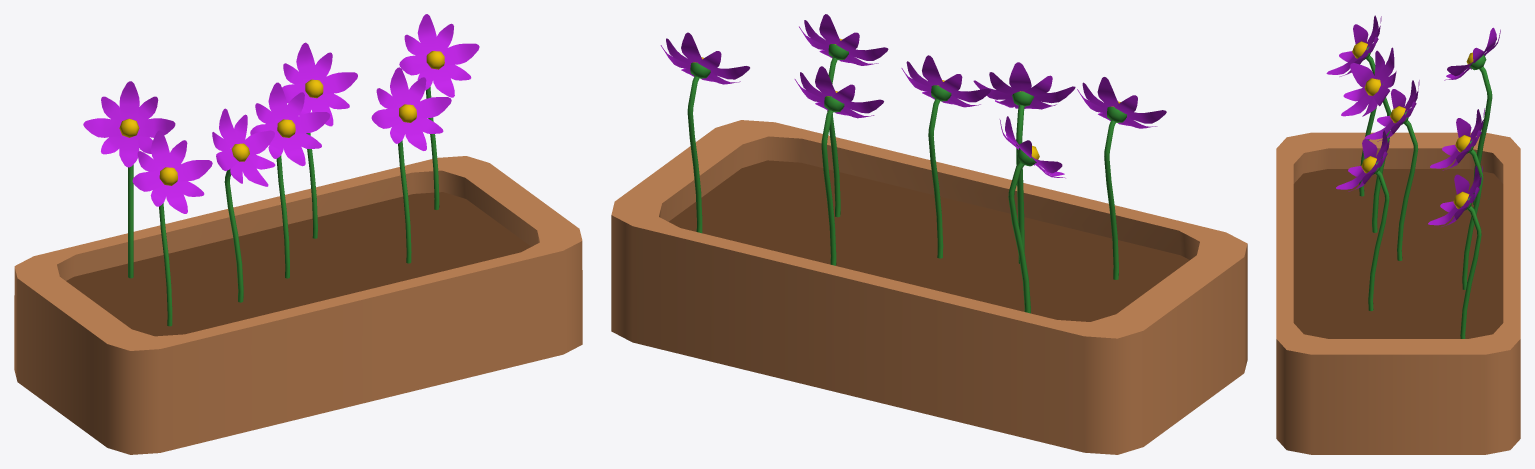
Rendered from Flowers&Flowerbed.fbx.
3 renders of one model, left to right at view 1: azimuth 30°, elevation 25°; view 2: azimuth 150°, elevation 25°; view 3: azimuth 270°, elevation 25°, orthographic. The views are drawn at different scales.
Visible parts, largest first — view 1: Cube, Plane.006, Line.003, Plane.001, Cube.005, Plane.026, Cube.007, Plane.011, Plane.015, Line.002, Plane.012; view 2: Cube, Cube.007, Plane.006, Plane.001, Cube.005, Plane.026, Line.003, Line.002; view 3: Cube, Cube.007, Line.003, Plane.001, Cube.005, Plane.026, Plane.006, Line.002.
Boxes of the visible parts, box(x1,y1,x2,y2) form: Cube: box(14, 156, 582, 454); Plane.006: box(132, 130, 212, 326); Line.003: box(371, 67, 451, 263); Plane.001: box(250, 82, 330, 278); Cube.005: box(399, 14, 479, 209); Plane.026: box(282, 42, 357, 238); Cube.007: box(212, 108, 275, 302); Plane.011: box(83, 118, 175, 137); Plane.015: box(101, 96, 158, 120); Line.002: box(128, 164, 133, 278); Plane.012: box(119, 81, 139, 121); Cube: box(611, 120, 1247, 454); Cube.007: box(973, 62, 1075, 263); Plane.006: box(1077, 77, 1166, 279); Plane.001: box(901, 55, 990, 258); Cube.005: box(660, 32, 749, 233); Plane.026: box(794, 66, 883, 265); Line.003: box(799, 14, 888, 217); Line.002: box(1008, 161, 1030, 313); Cube: box(1276, 132, 1520, 454); Cube.007: box(1341, 47, 1396, 232); Line.003: box(1336, 129, 1390, 311); Plane.001: box(1364, 80, 1419, 260); Cube.005: box(1428, 166, 1482, 338); Plane.026: box(1430, 108, 1484, 289); Plane.006: box(1326, 15, 1381, 196); Line.002: box(1473, 66, 1492, 204).
Size of the model in its own units: 243 by 133 by 113.
